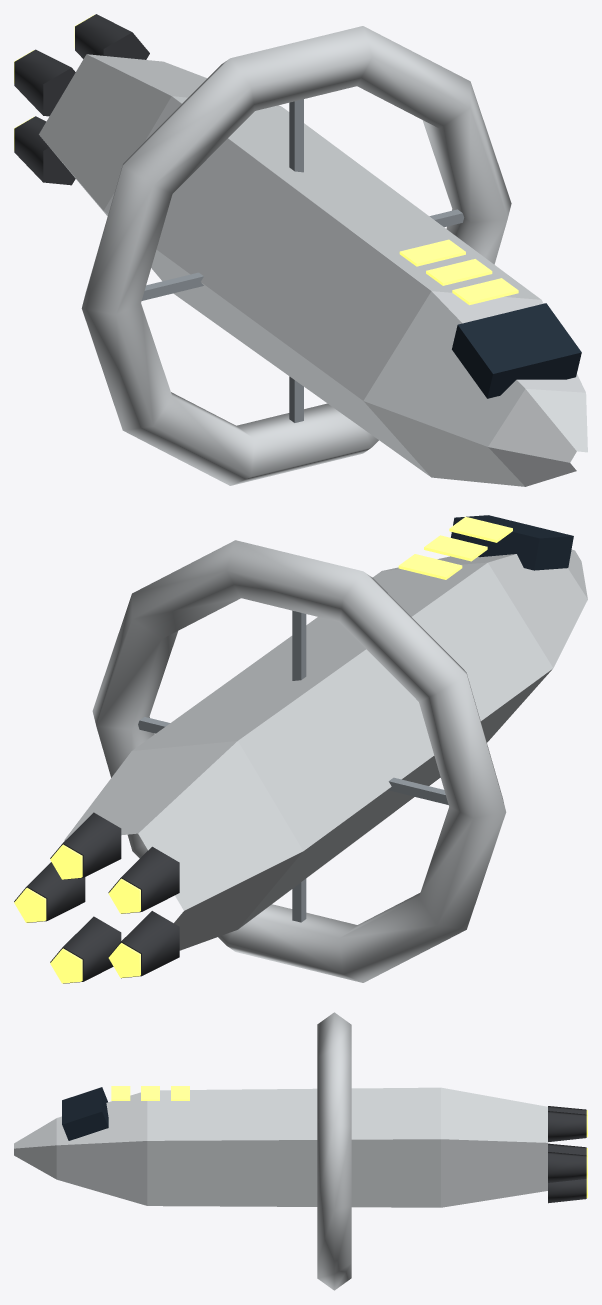
File: space_ship_colony_transport_mk2_lod1.glb
3 renders of one model, top to bottom at view 1: azimuth 30°, elevation 25°; view 2: azimuth 150°, elevation 25°; view 3: azimuth 270°, elevation 25°, orthographic. The views are drawn at different scales.
Parts seen in each view (by area): view 1: body, habitat_ring_0, engine_2, engine_1, engine_3; view 2: body, habitat_ring_0, engine_1, engine_3, engine_2, engine_4, engine_0; view 3: body, habitat_ring_0, engine_1, engine_0, engine_4.
Part boxes in pixels (x1=…): body: x1=39, y1=54, x2=587, y2=486; habitat_ring_0: x1=81, y1=26, x2=511, y2=485; engine_2: x1=14, y1=49, x2=75, y2=116; engine_1: x1=74, y1=14, x2=149, y2=59; engine_3: x1=14, y1=116, x2=75, y2=185; body: x1=64, y1=515, x2=587, y2=950; habitat_ring_0: x1=92, y1=540, x2=506, y2=982; engine_1: x1=50, y1=812, x2=121, y2=879; engine_3: x1=108, y1=911, x2=179, y2=978; engine_2: x1=108, y1=846, x2=179, y2=913; engine_4: x1=50, y1=916, x2=121, y2=983; engine_0: x1=14, y1=862, x2=85, y2=922; body: x1=14, y1=1086, x2=547, y2=1207; habitat_ring_0: x1=317, y1=1012, x2=351, y2=1290; engine_1: x1=548, y1=1111, x2=587, y2=1141; engine_0: x1=548, y1=1152, x2=587, y2=1182; engine_4: x1=548, y1=1178, x2=587, y2=1203.
Bounding box in the file's own units: 23.54 × 22.39 × 48.16.
